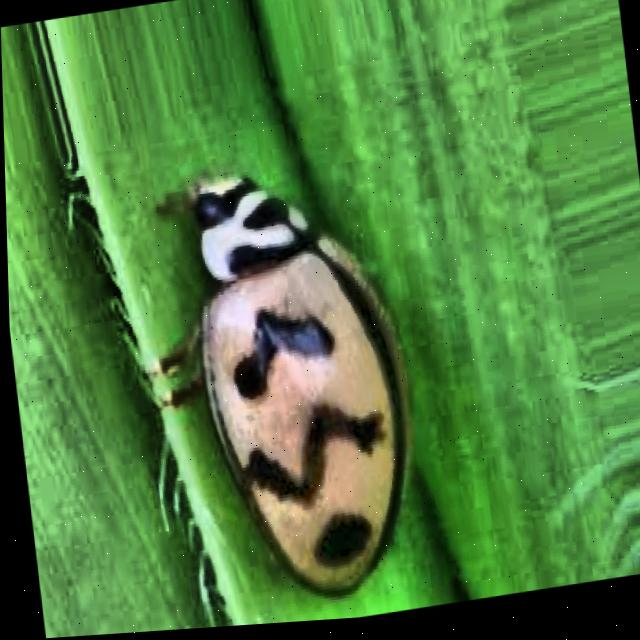Asian-Lady-beetle: (105, 65, 459, 635)
